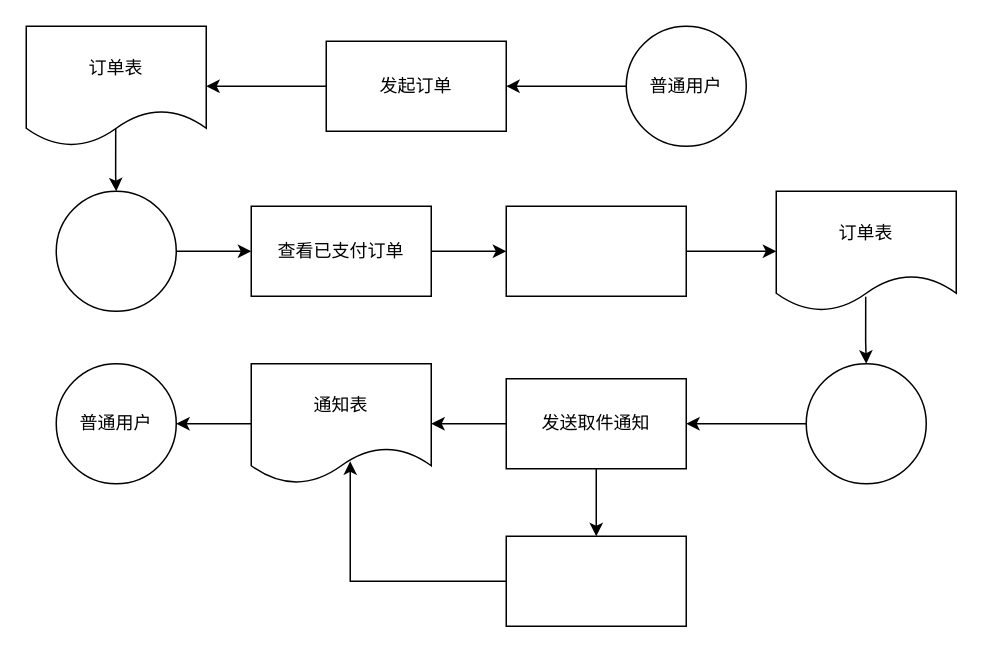
Some shapes in this 983 by 653 pixel diagram are drawn without their labels. Each missing label, with the box of its shape:
商品发货: (505, 205, 686, 296)
商家: (55, 190, 176, 311)
团长: (805, 362, 926, 484)
生成取件码: (505, 535, 686, 626)
